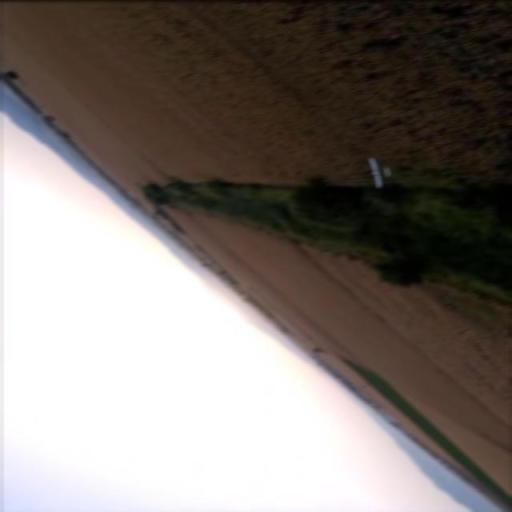uav: (366, 156, 392, 186)
